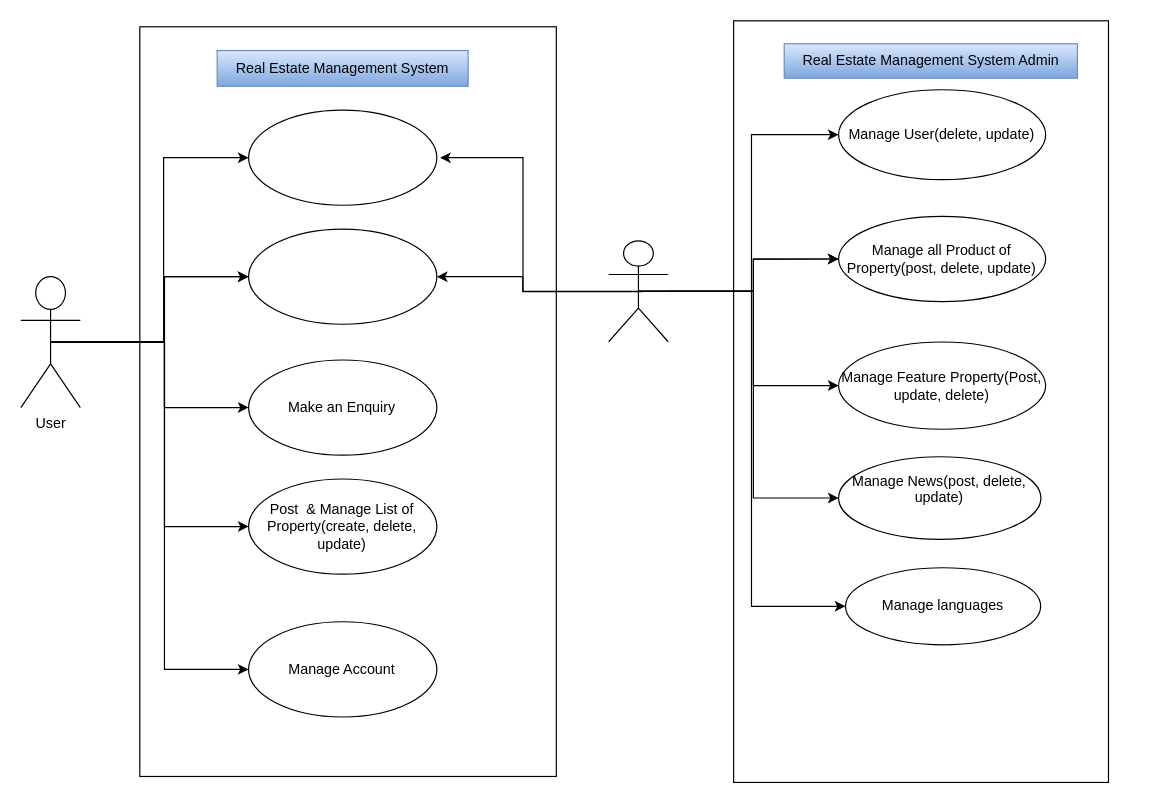
Image size: 1171x803. Some labels were removed from this diagram. The centre of each missing label's shape, as x and y in pixels:
"Admin" goes at pixel 637 291.
"Search property" goes at pixel 342 157.
"View feature of property" goes at pixel 342 276.
